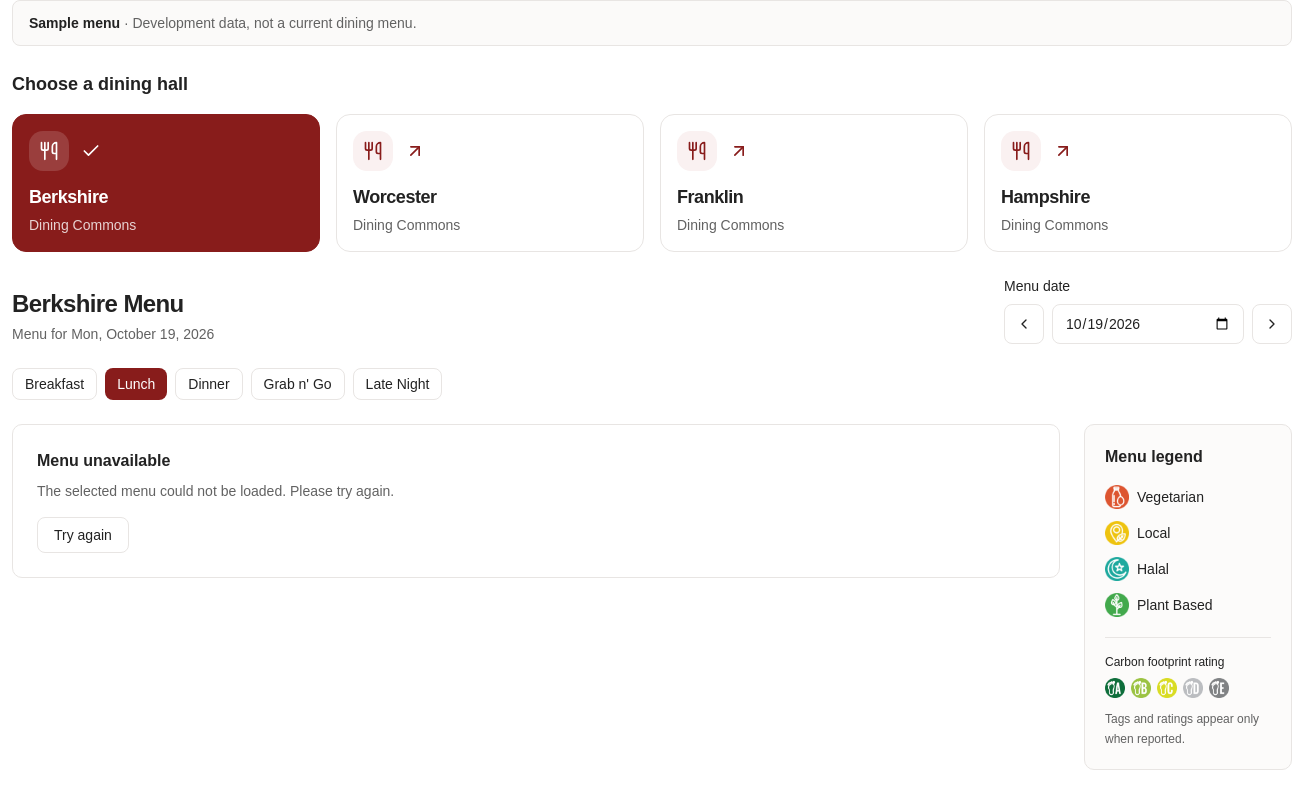
Test: Menus › shows an empty menu and recovers from a failed menu request
This screenshot has width=1304, height=800.
expect the message is shown: met, box x1=12 y1=424 x2=1060 y2=578
Click the button "Try again".
click(83, 535)  # box x1=37 y1=517 x2=129 y2=553
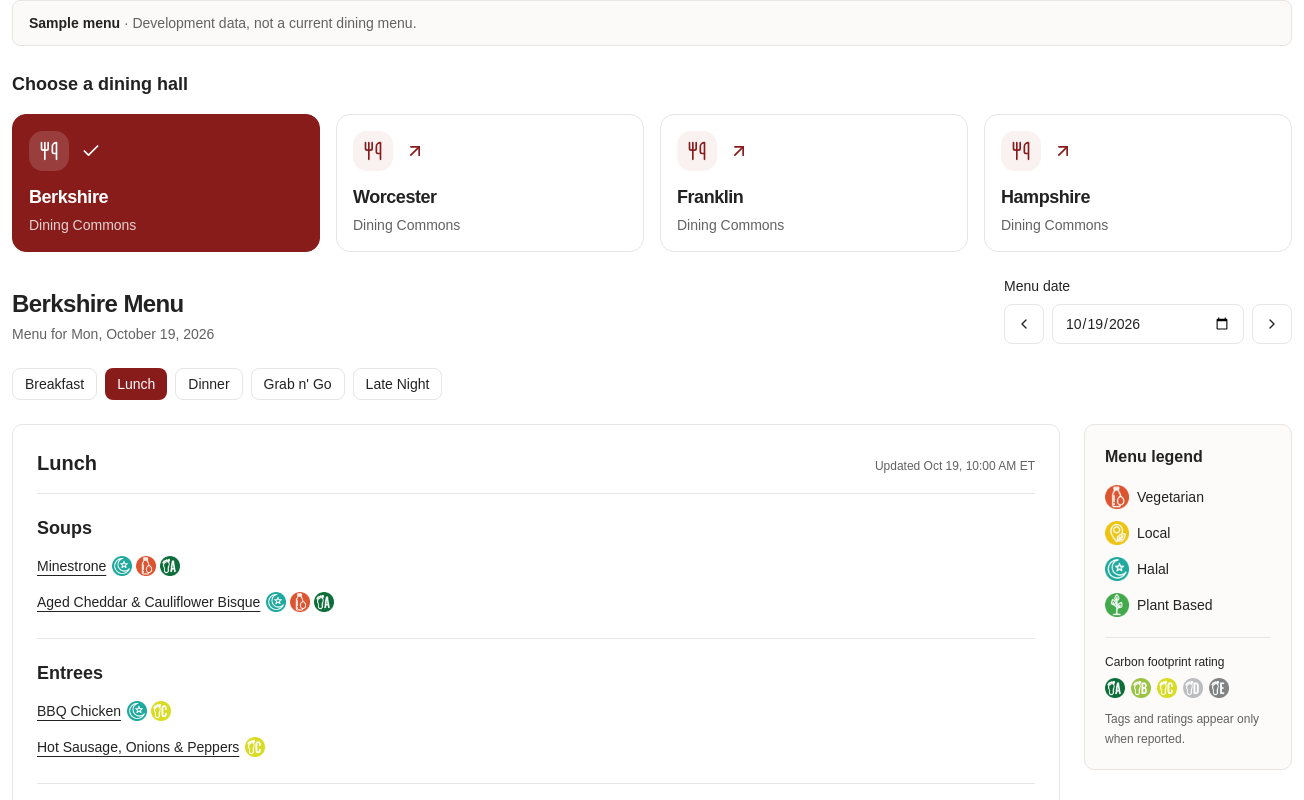
expect the button "Aged Cheddar & Cauliflower Bisque" is shown: met, box x1=37 y1=586 x2=260 y2=618
Type "2026-10-25" into the date field labelled "Menu date".
click(1148, 324); type("2026-10-25")  # box x1=1052 y1=304 x2=1244 y2=344
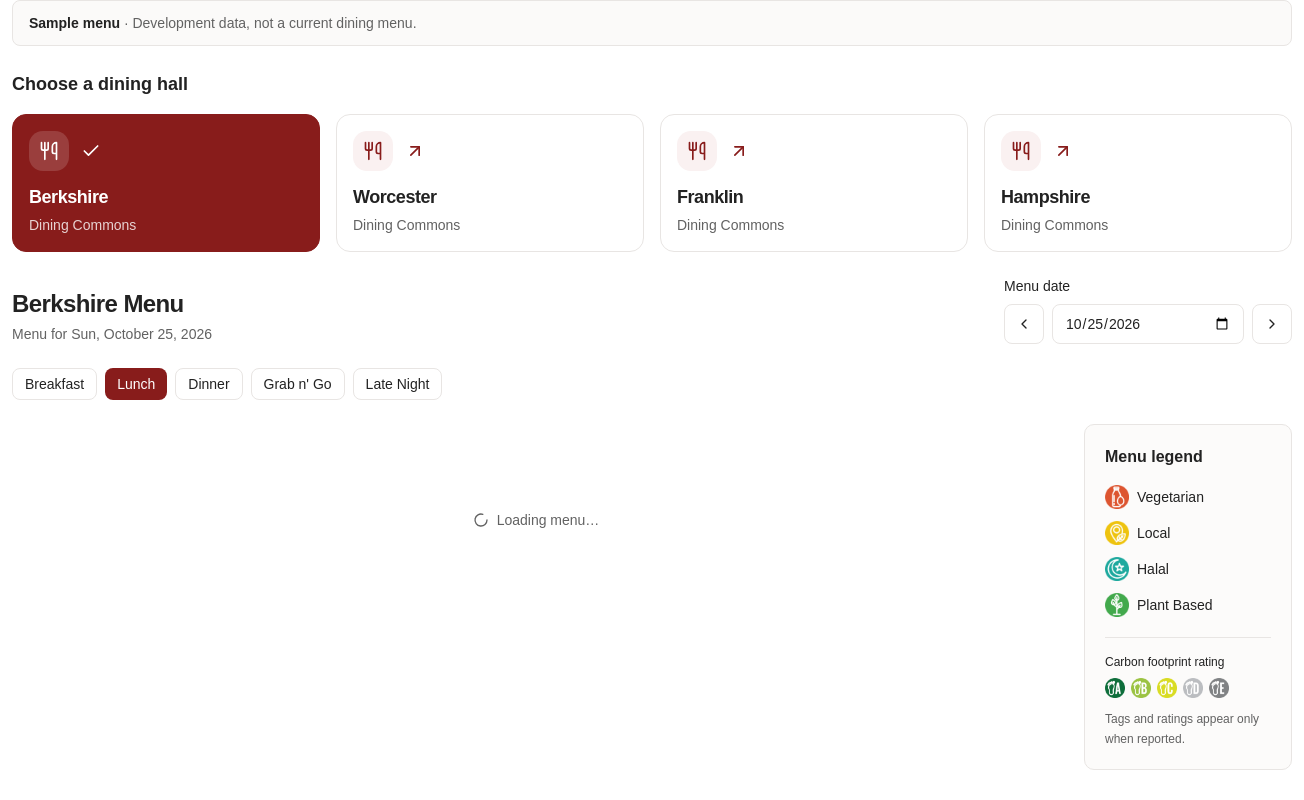
Click the button "Late Night".
click(398, 384)  # box x1=353 y1=368 x2=442 y2=400
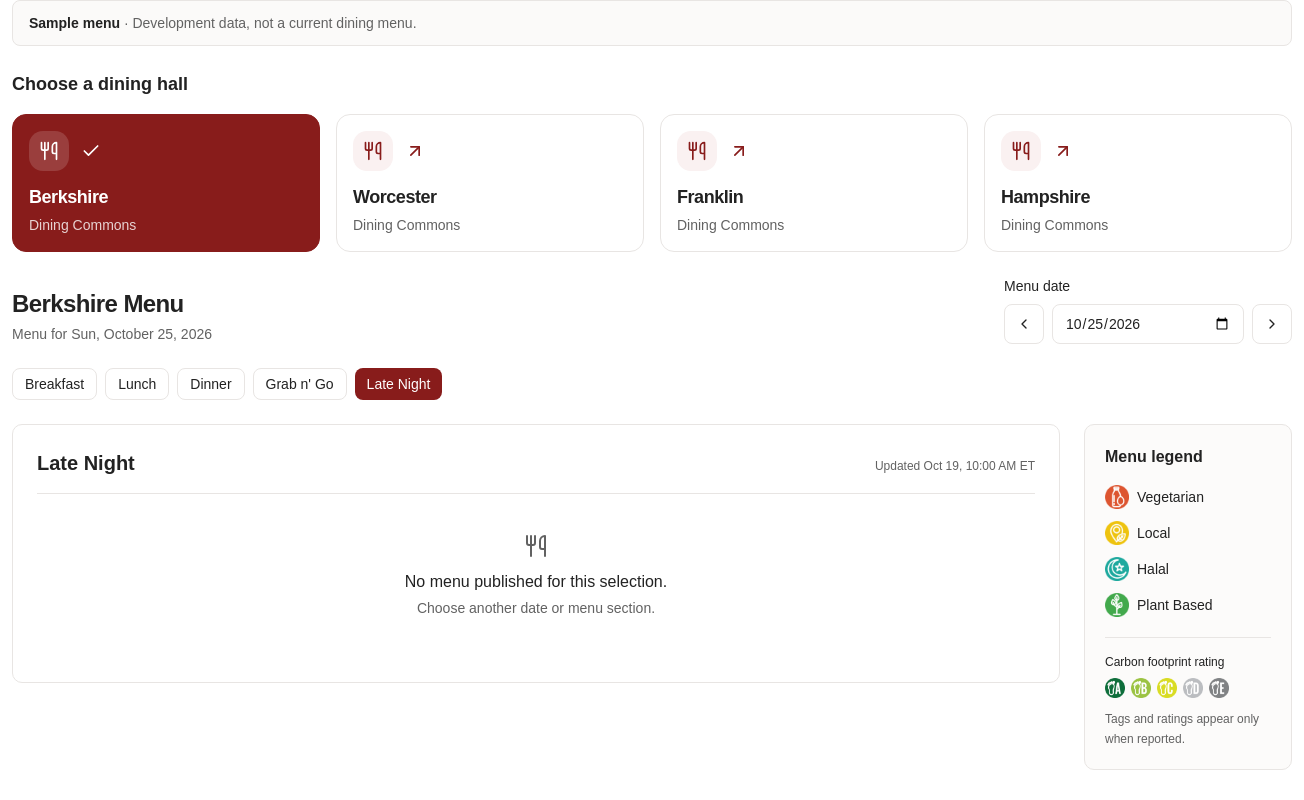
expect the text "No menu published for this selection." is shown: met, box x1=405 y1=573 x2=667 y2=590
